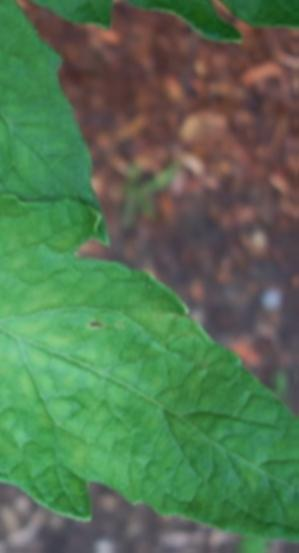Tomato mold leaf: (0, 105, 299, 553)
